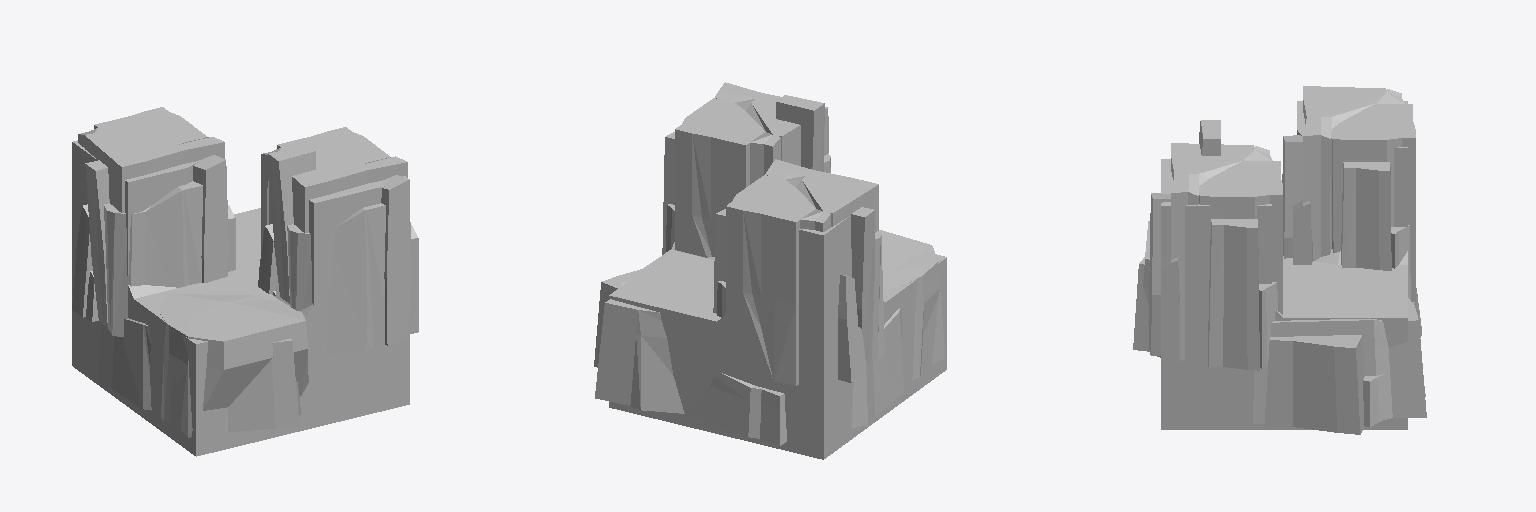
Rendered from cliff_1111_1010.obj.
The picture shows the model from 3 angles: view 1: azimuth 30°, elevation 25°; view 2: azimuth 150°, elevation 25°; view 3: azimuth 270°, elevation 25°; orthographic projection.
Visible parts, largest first — view 1: tile_1111_1010; view 2: tile_1111_1010; view 3: tile_1111_1010.
Part boxes in pixels (bbox=[...]): tile_1111_1010: bbox=[72, 107, 418, 456]; tile_1111_1010: bbox=[594, 82, 946, 459]; tile_1111_1010: bbox=[1133, 86, 1426, 434].
Bounding box in the file's own units: 2.5 × 2.28 × 2.37.